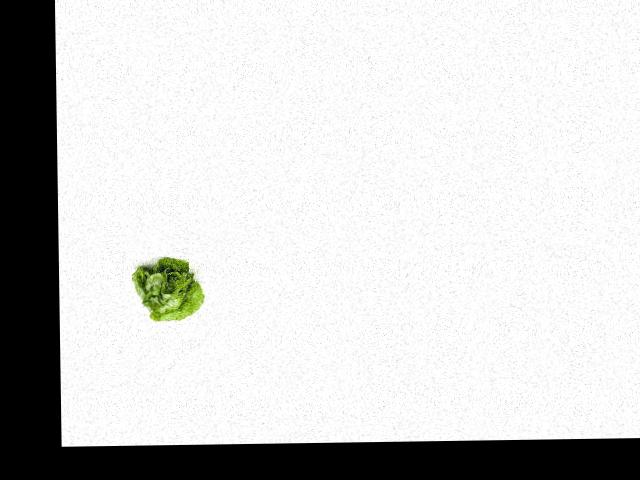lettuce: (129, 252, 205, 327)
